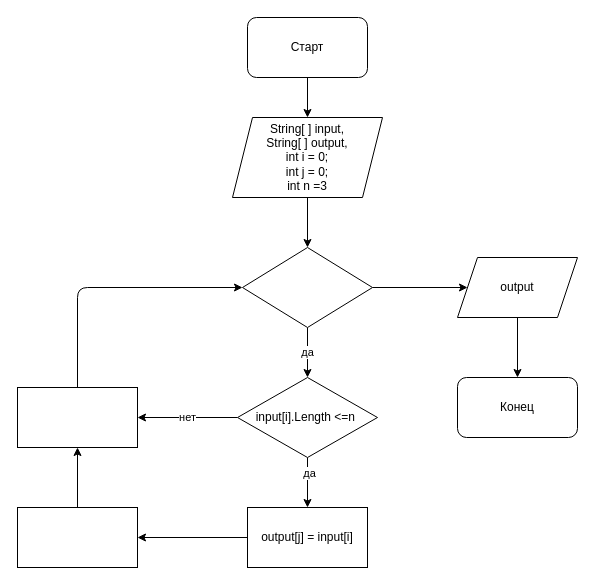
This 595x585 diagram has some shape labels left out. The shapes that lost their labels are listed below. From the top down, each one's centre as x and y in pixels, then its label:
At pixel 307 287: "i < input.Length".
At pixel 77 417: "i++".
At pixel 77 537: "j++".
